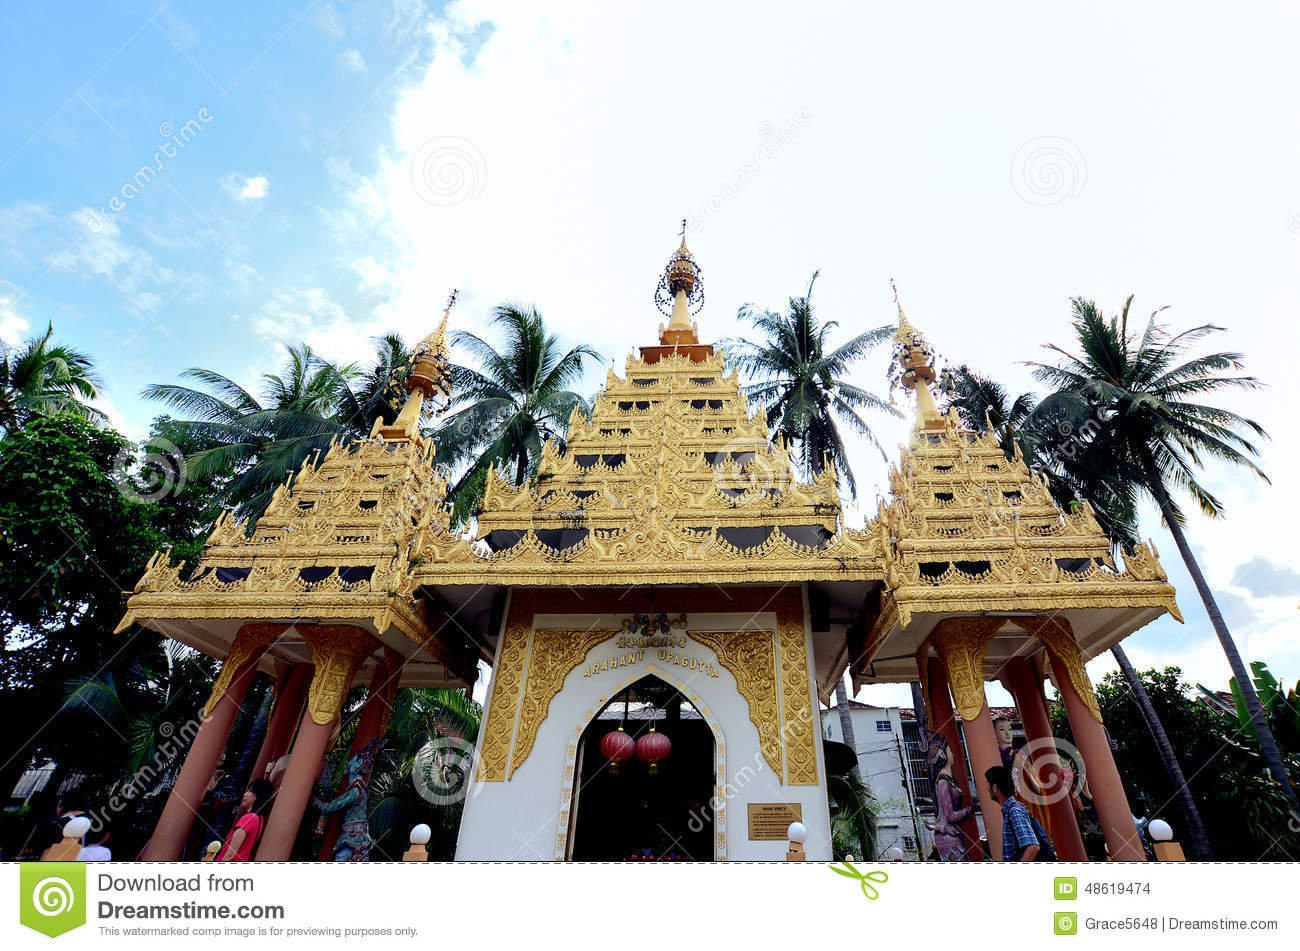Buddhist Temple: (176, 241, 1105, 860)
